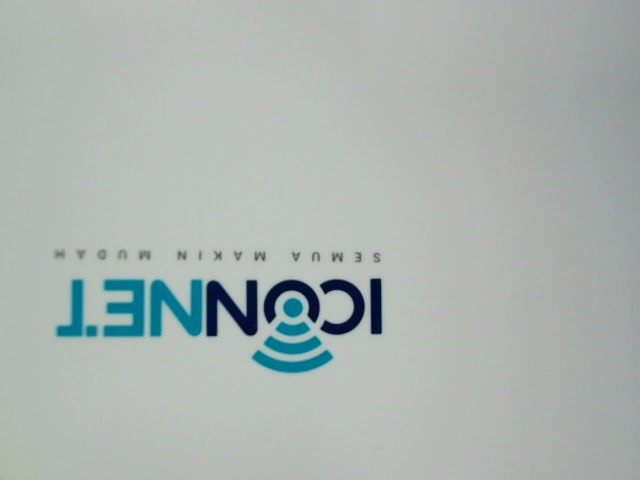BM_ICONNET: (42, 235, 414, 378)
